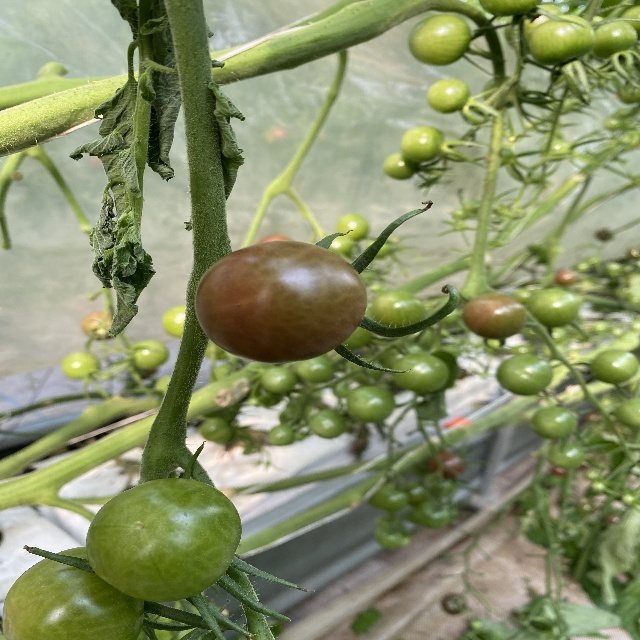l_green: (85, 478, 242, 602), (1, 546, 144, 639), (408, 15, 473, 67), (529, 14, 594, 65), (494, 355, 556, 395), (591, 20, 638, 60), (590, 349, 639, 383), (402, 125, 445, 162), (425, 78, 469, 114), (480, 0, 544, 18)
l_half_ripened: (194, 239, 368, 364), (462, 294, 526, 340)
